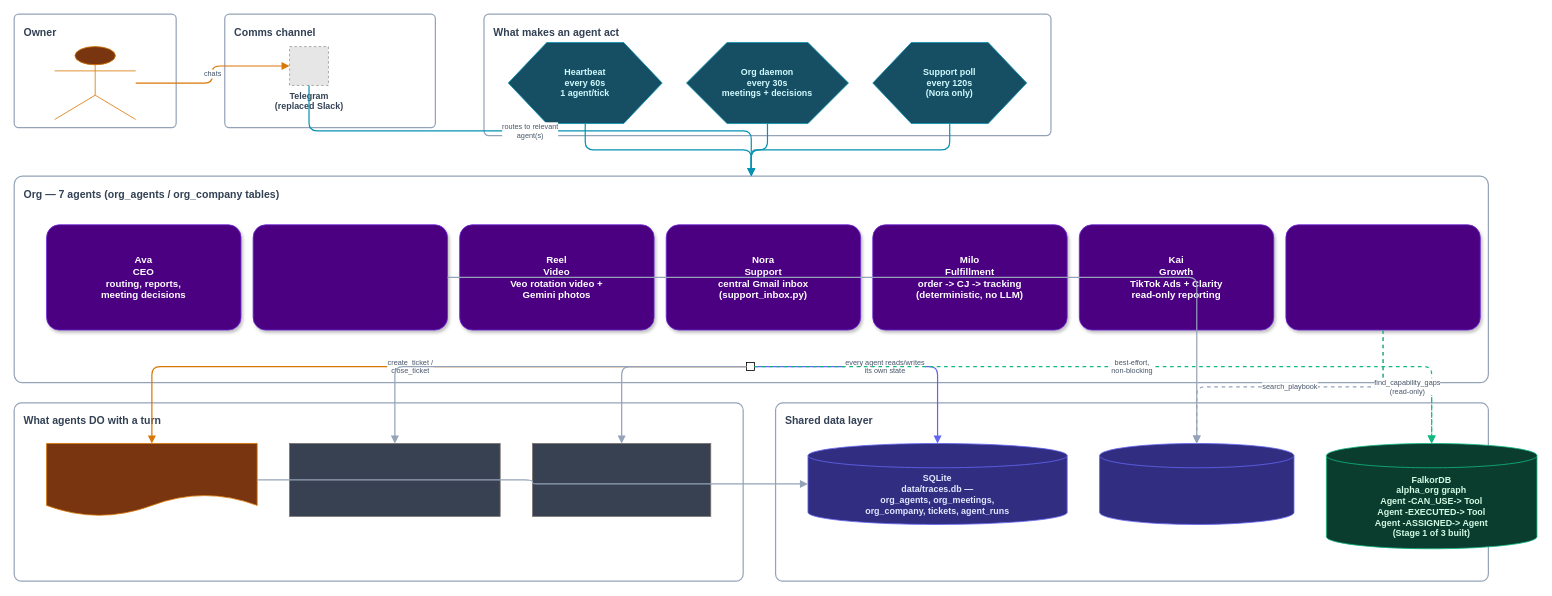
Some shapes in this 1552 by 596 pixel diagram are drawn without their labels. Grey dashed boxes stand in for pictures. Here are the shapes that lost their labels. From the top down, the centre of each, then its label:
At point (95, 82): "Itzik (owner)".
At point (350, 278): "Sol Sourcing & Copy CJ search -> Shopify push".
At point (1383, 278): "Nova Stay-on-target weekly audit, create/close_ticket only".
At point (151, 479): "Ticket board (tickets.py — create/assign/ close, dedupe_key)".
At point (394, 479): "dispatch_to_agent() agent -> agent handoff (Ava routes work)".
At point (621, 479): "Meetings standup / strategy / retro — org_meetings table".
At point (1196, 483): "Redis RAG: CJ catalog + Sol's + Nova's playbook".
